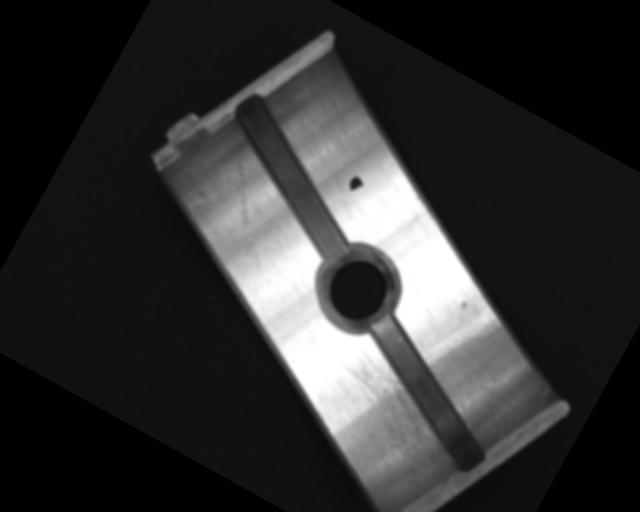blot: (345, 174, 367, 196)
bruise: (458, 299, 469, 311)
gap: (192, 88, 391, 267), (333, 309, 522, 476)
hole: (304, 235, 410, 344)
nick: (196, 157, 301, 268)
scratch: (293, 335, 479, 501)
